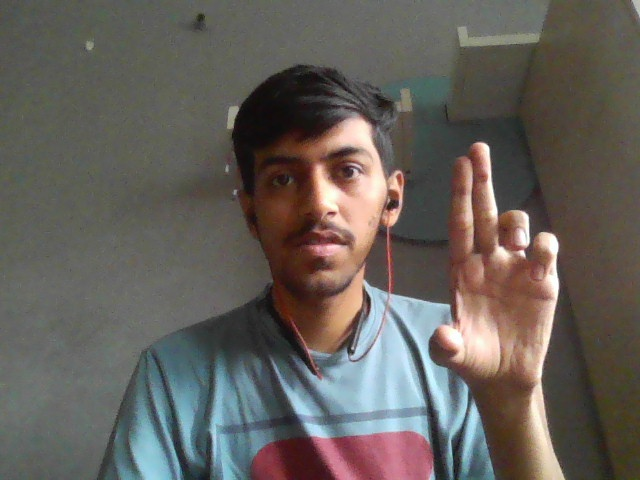No: (418, 134, 558, 394)
